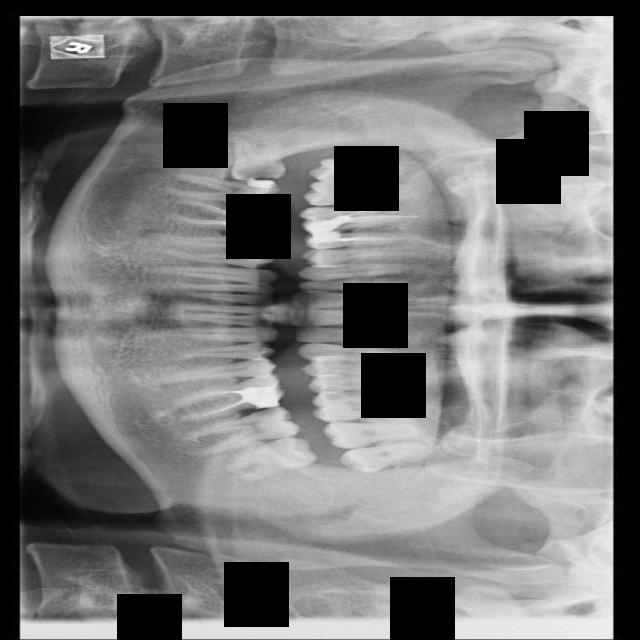3M ESPE Implant: (305, 155, 423, 183)
52: (239, 372, 286, 414), (297, 202, 347, 239), (221, 201, 268, 240), (232, 178, 280, 211), (302, 230, 343, 250), (236, 164, 277, 181), (324, 389, 356, 401), (252, 405, 276, 420), (234, 180, 254, 185)
73: (171, 379, 253, 427), (162, 192, 237, 234), (336, 200, 431, 231), (338, 231, 430, 247), (42, 600, 48, 610)
BioHorizons Implant: (321, 417, 438, 450)
BioLife Implant: (337, 436, 452, 477)
Biomet 3i Implant: (217, 430, 318, 488)
Blue Sky Bio Implant: (172, 401, 302, 461)
Caries: (300, 177, 431, 206)
Implant: (160, 172, 280, 211)
Keystone Dental Implant: (229, 134, 287, 181)
